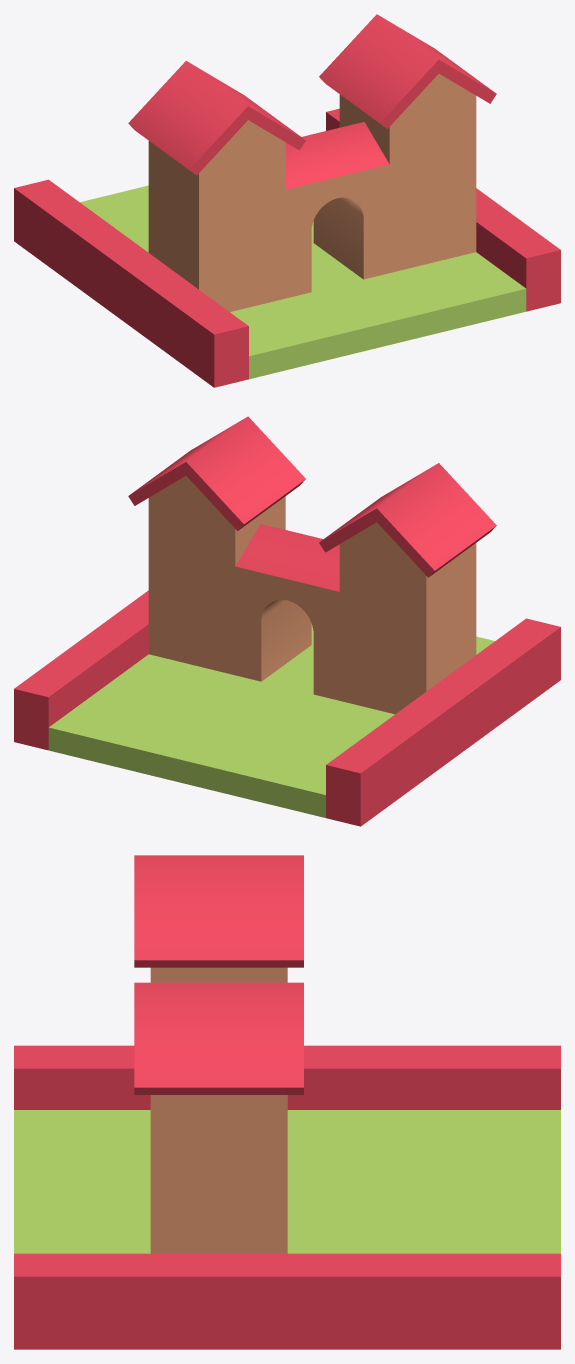
The model's file is castle.fbx.
3 views of the same model, one above another, from view 1: azimuth 30°, elevation 25°; view 2: azimuth 150°, elevation 25°; view 3: azimuth 270°, elevation 25° (orthographic). The views are drawn at different scales.
Parts seen in each view (by area): view 1: castle; view 2: castle; view 3: castle.
Boxes of the visible parts, left/top/right/bottom form: castle: left=14, top=14, right=560, bottom=387; castle: left=14, top=416, right=560, bottom=826; castle: left=14, top=855, right=560, bottom=1349.
Bounding box in the file's own units: 10 × 6.35 × 10.
